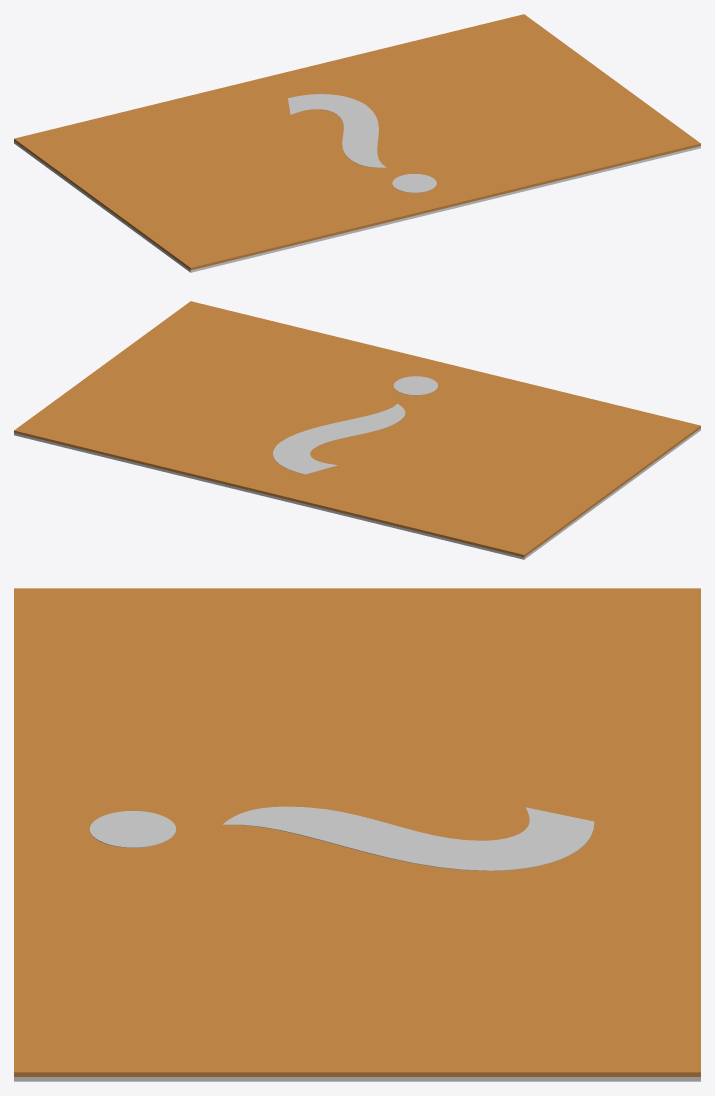
Rendered from Chance Card.fbx.
3 renders of one model, top to bottom at view 1: azimuth 30°, elevation 25°; view 2: azimuth 150°, elevation 25°; view 3: azimuth 270°, elevation 25°, orthographic. The views are drawn at different scales.
Parts seen in each view (by area): view 1: Chance Card; view 2: Chance Card; view 3: Chance Card.
Part boxes in pixels (x1=…): Chance Card: x1=14, y1=14, x2=700, y2=272; Chance Card: x1=14, y1=301, x2=700, y2=559; Chance Card: x1=14, y1=588, x2=700, y2=1081.
Bounding box in the file's own units: 101 × 60.88 × 0.9726.
